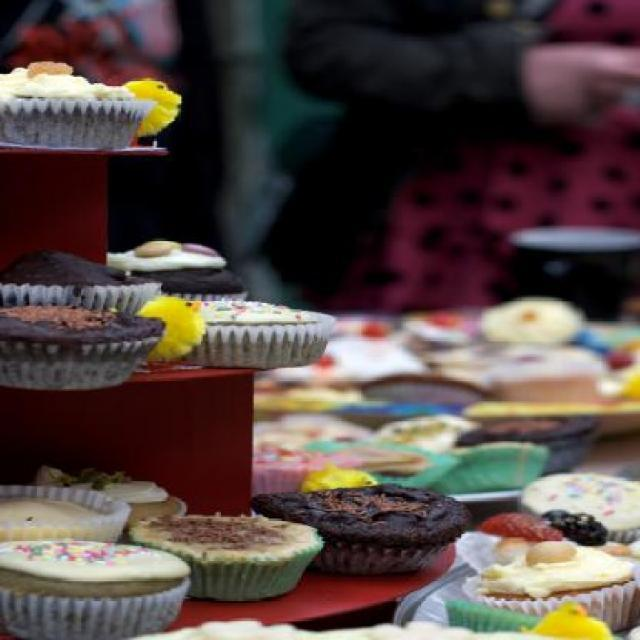Muffin: (0, 460, 462, 638), (0, 235, 335, 393), (266, 294, 640, 412), (402, 470, 638, 638), (240, 411, 598, 504), (139, 503, 330, 602), (0, 57, 155, 154)
